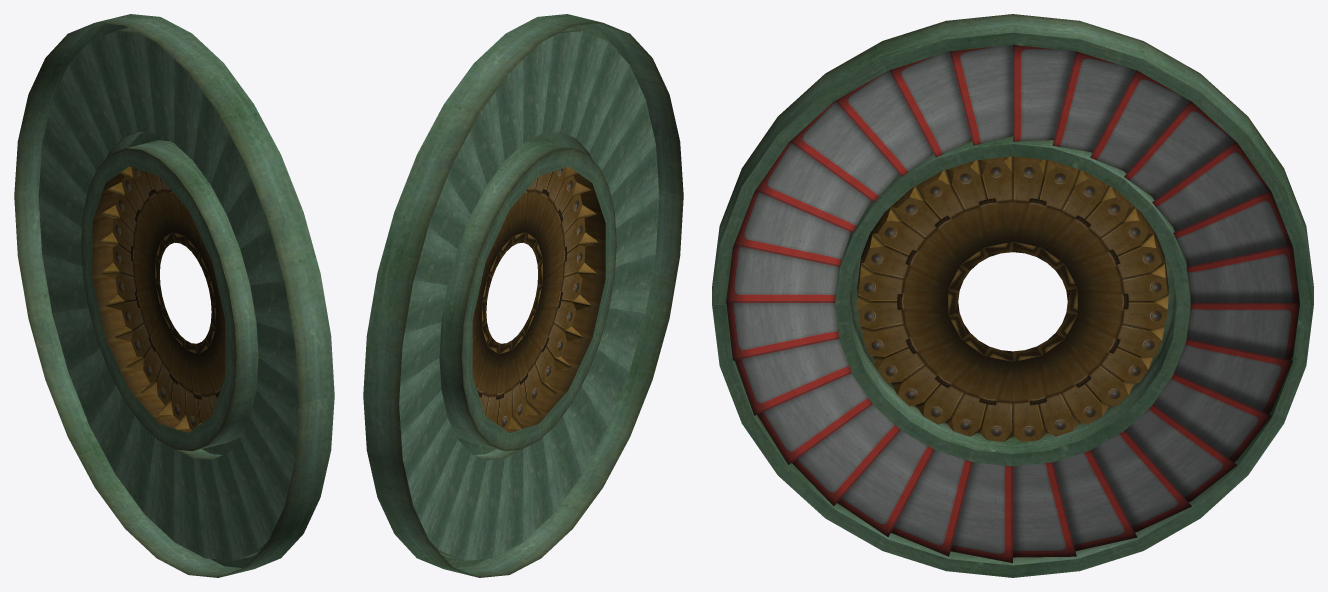
File: stg300_Motturbine_13.obj
3 views of the same model, side by side, from view 1: azimuth 30°, elevation 25°; view 2: azimuth 150°, elevation 25°; view 3: azimuth 270°, elevation 25° (orthographic). The views are drawn at different scales.
Visible parts, largest first — view 1: polygon0, polygon1; view 2: polygon0, polygon1; view 3: polygon0, polygon1.
Part boxes in pixels (x1=…): polygon0: x1=14, y1=14, x2=334, y2=577; polygon1: x1=92, y1=166, x2=225, y2=432; polygon0: x1=363, y1=14, x2=683, y2=577; polygon1: x1=472, y1=166, x2=605, y2=432; polygon0: x1=712, y1=14, x2=1313, y2=577; polygon1: x1=857, y1=156, x2=1168, y2=441.
Size of the model in its own units: 16 by 220 by 220.
1 material, 1 textured.
